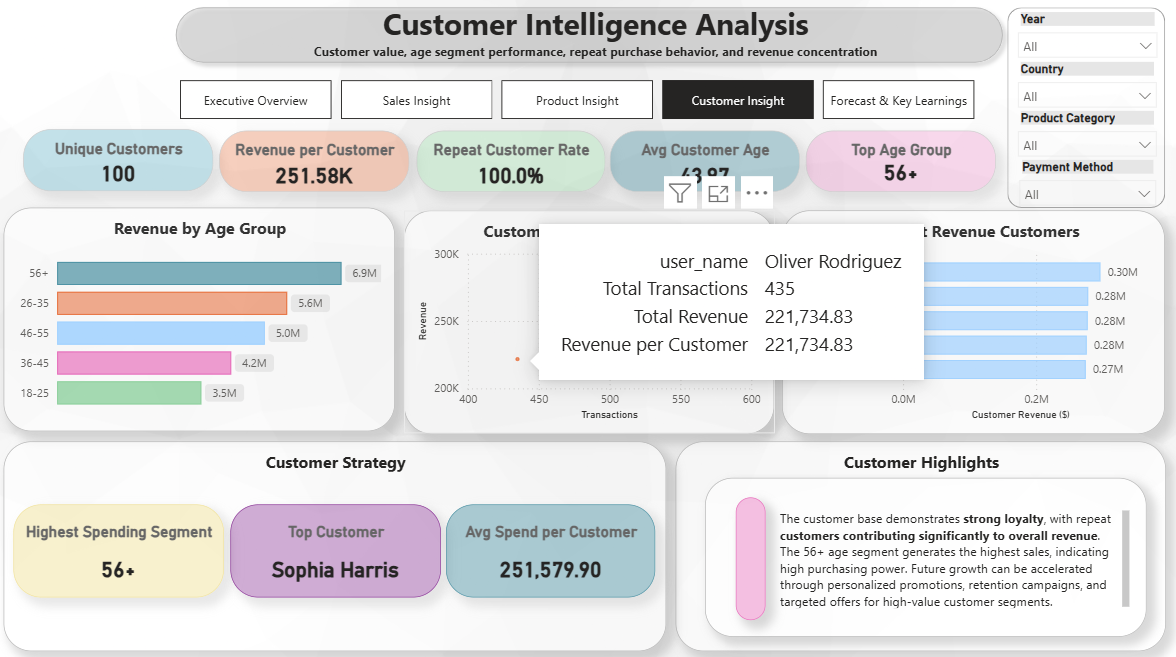

This screenshot's page, from the dashboard's own definition file:
{"tool":"powerbi","page":{"name":"Customer Insight","canvas":[1280,720],"ordinal":3},"visuals":[{"type":"pageNavigator","box":[197,88,864.7,42.4],"z":0},{"type":"shape","box":[1093.1,9.2,170.8,217],"z":1000},{"type":"slicer","fields":{"Values":["Dim Country.Country"]},"box":[1094.2,65,170,56.7],"z":2000},{"type":"slicer","fields":{"Values":["Dim Date.Year"]},"box":[1093.3,9.2,170.8,61.7],"z":3000},{"type":"slicer","fields":{"Values":["Dim Product.Product Category"]},"box":[1094.2,118,170,55.8],"z":4000},{"type":"slicer","fields":{"Values":["Dim Payment Method.Payment Method"]},"box":[1096.2,171.5,167.7,56.9],"z":5000},{"type":"card","title":"Unique Customers","fields":{"Values":["Measure Table.Unique Customers"]},"box":[27.1,141.4,205.7,67.1],"z":6000},{"type":"card","title":"Revenue per Customer","fields":{"Values":["Measure Table.Revenue per Customer"]},"box":[240,142.5,205.8,66.7],"z":7000},{"type":"card","title":"Repeat Customer Rate","fields":{"Values":["Measure Table.Repeat Customer Rate"]},"box":[452.5,141.7,204.2,66.7],"z":8000},{"type":"card","title":"Avg Customer Age","fields":{"Values":["Measure Table.Average Customer Age"]},"box":[662.5,141.7,205.8,66.7],"z":9000},{"type":"card","title":"Top Age Group","fields":{"Values":["Measure Table.Top Age Group by Revenue"]},"box":[874.2,141.7,205.8,66.7],"z":10000},{"type":"shape","box":[183.8,0,913.2,77.9],"z":11000},{"type":"textbox","box":[197.1,0,900,108.6],"z":12000},{"type":"clusteredBarChart","title":"Revenue by Age Group","fields":{"Category":["Dim Customer.Age Group"],"Y":["Measure Table.Total Revenue"]},"box":[6.4,226.4,423.6,241.8],"z":13000},{"type":"scatterChart","title":"Customer Value Distribution","fields":{"Category":["Dim Customer.user_name"],"Size":["Measure Table.Revenue per Customer"],"X":["Measure Table.Total Transactions"],"Y":["Measure Table.Total Revenue"]},"box":[440,228.2,400.9,241.8],"z":14000},{"type":"clusteredBarChart","title":"Highest Revenue Customers","fields":{"Category":["Dim Customer.user_name"],"Y":["Measure Table.Total Revenue"]},"box":[849.1,228.2,414.5,241.8],"z":15000},{"type":"shape","title":"Customer Highlights","box":[732.7,478.2,530.9,227.3],"z":16000},{"type":"shape","title":"Market Leadership Insight","box":[765.8,518.5,477.6,172.4],"z":17000},{"type":"textbox","box":[840.7,548.2,388.5,115.9],"z":18000},{"type":"shape","title":"Market Leadership Insight","box":[798.3,539.7,32.5,132.8],"z":19000},{"type":"shape","title":"Customer Strategy","box":[6.4,478.2,717.3,227.3],"z":20000},{"type":"card","title":"Highest Spending Segment ","fields":{"Values":["Measure Table.Top Age Group by Revenue"]},"box":[16.7,547.5,227.5,100.8],"z":21000},{"type":"card","title":"Top Customer","fields":{"Values":["Measure Table.Top Customer"]},"box":[250.8,547.5,227.5,100.8],"z":22000},{"type":"card","title":"Avg Spend per Customer","fields":{"Values":["Measure Table.Revenue per Customer"]},"box":[485,547.5,226.7,100.8],"z":23000}]}

Visuals, with their boxes in screenshot pixels (x1, y1, x2, y2), scaled from the page's 1280x720 canvas onto the 1176x657 screenshot:
pageNavigator: x1=181 y1=80 x2=975 y2=119
shape: x1=1004 y1=8 x2=1161 y2=206
slicer - Dim Country.Country: x1=1005 y1=59 x2=1161 y2=111
slicer - Dim Date.Year: x1=1004 y1=8 x2=1161 y2=65
slicer - Dim Product.Product Category: x1=1005 y1=108 x2=1161 y2=159
slicer - Dim Payment Method.Payment Method: x1=1007 y1=156 x2=1161 y2=208
"Unique Customers" card: x1=25 y1=129 x2=214 y2=190
"Revenue per Customer" card: x1=220 y1=130 x2=410 y2=191
"Repeat Customer Rate" card: x1=416 y1=129 x2=603 y2=190
"Avg Customer Age" card: x1=609 y1=129 x2=798 y2=190
"Top Age Group" card: x1=803 y1=129 x2=992 y2=190
shape: x1=169 y1=0 x2=1008 y2=71
textbox: x1=181 y1=0 x2=1008 y2=99
"Revenue by Age Group" clusteredBarChart: x1=6 y1=207 x2=395 y2=427
"Customer Value Distribution" scatterChart: x1=404 y1=208 x2=773 y2=429
"Highest Revenue Customers" clusteredBarChart: x1=780 y1=208 x2=1161 y2=429
"Customer Highlights" shape: x1=673 y1=436 x2=1161 y2=644
"Market Leadership Insight" shape: x1=704 y1=473 x2=1142 y2=630
textbox: x1=772 y1=500 x2=1129 y2=606
"Market Leadership Insight" shape: x1=733 y1=492 x2=763 y2=614
"Customer Strategy" shape: x1=6 y1=436 x2=665 y2=644
"Highest Spending Segment " card: x1=15 y1=500 x2=224 y2=592
"Top Customer" card: x1=230 y1=500 x2=439 y2=592
"Avg Spend per Customer" card: x1=446 y1=500 x2=654 y2=592
